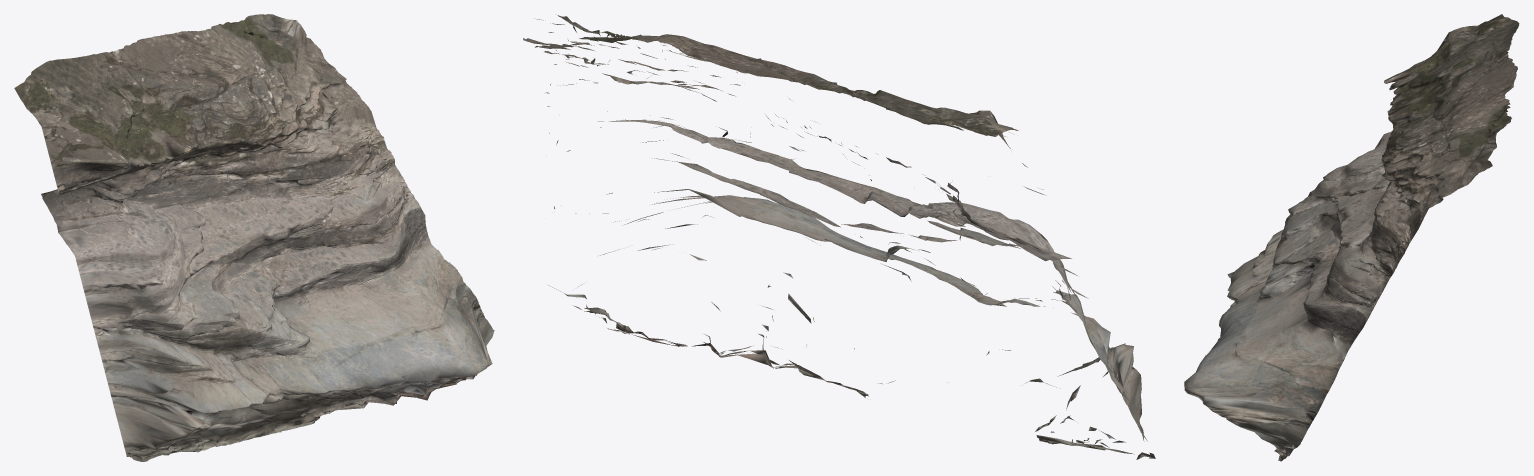
The model's file is cliff_a.glb.
3 renders of one model, left to right at view 1: azimuth 30°, elevation 25°; view 2: azimuth 150°, elevation 25°; view 3: azimuth 270°, elevation 25°, orthographic. The views are drawn at different scales.
Visible parts, largest first — view 1: cliff_a; view 2: cliff_a; view 3: cliff_a.
Part boxes in pixels (box(x1,y1,x2,y2)): cliff_a: box(14, 14, 494, 461); cliff_a: box(523, 15, 1155, 459); cliff_a: box(1184, 14, 1519, 461).
Bounding box in the file's own units: 32 × 24.89 × 25.3.
Materials: 1 (1 with a texture image).
